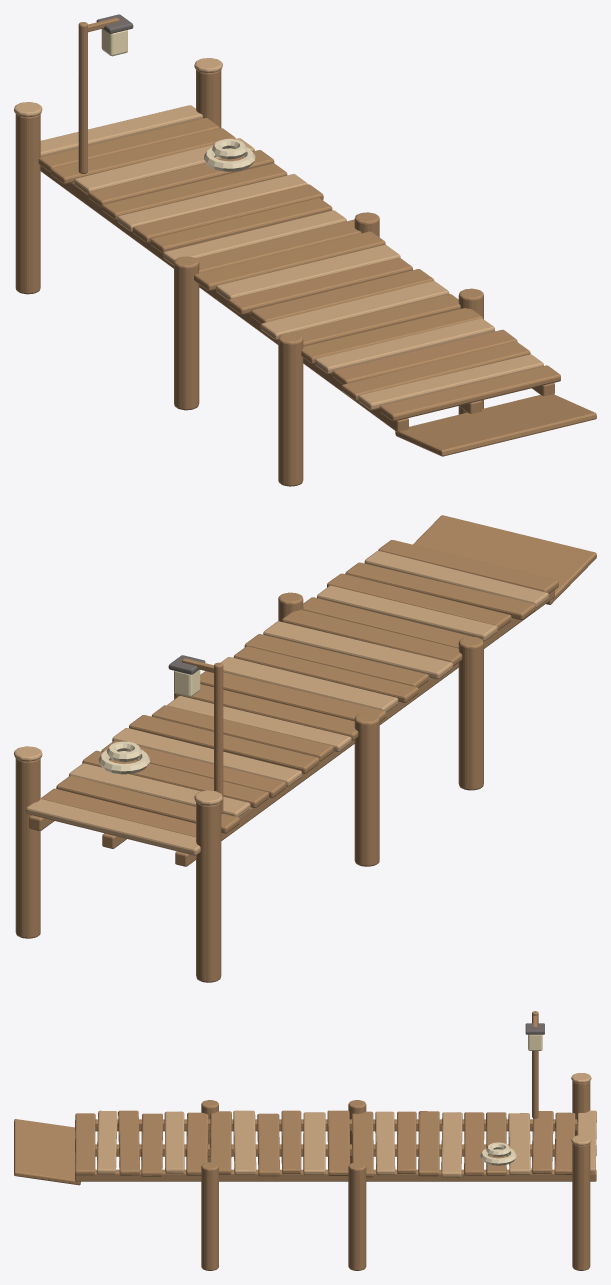
File: dock.glb
The picture shows the model from 3 angles, top to bottom: view 1: azimuth 30°, elevation 25°; view 2: azimuth 150°, elevation 25°; view 3: azimuth 270°, elevation 25°; orthographic projection. The views are drawn at different scales.
Parts seen in each view (by area): view 1: Dock ramp, Dock post.004, Dock post, Dock post.002, Dock plank 00, Dock plank 11, Dock plank 07, Dock plank 15, Dock plank 10, Dock plank 09, Dock plank 14, Dock plank 02 (+20 smaller); view 2: Dock ramp, Dock post.004, Dock post.005, Dock post, Dock post.002, Dock plank 07, Dock plank 22, Dock plank 15, Dock plank 02, Dock plank 10, Dock plank 04, Dock plank 06 (+20 smaller); view 3: Dock stringer.002, Dock ramp, Dock post.005, Dock post.003, Dock post.001, Dock plank 11, Dock plank 07, Dock plank 10, Dock plank 15, Dock plank 08, Dock plank 02, Dock plank 03 (+21 smaller).
Boxes of the visible parts, bbox=[...] form: Dock ramp: bbox=[395, 394, 596, 456]; Dock post.004: bbox=[15, 114, 40, 294]; Dock post: bbox=[278, 332, 303, 486]; Dock post.002: bbox=[174, 256, 199, 410]; Dock plank 00: bbox=[379, 365, 560, 421]; Dock plank 11: bbox=[194, 231, 385, 290]; Dock plank 07: bbox=[260, 281, 449, 340]; Dock plank 15: bbox=[132, 184, 323, 242]; Dock plank 10: bbox=[216, 244, 400, 300]; Dock plank 09: bbox=[228, 258, 412, 314]; Dock plank 14: bbox=[150, 198, 332, 253]; Dock plank 02: bbox=[341, 341, 530, 400]; Dock ramp: bbox=[413, 515, 596, 604]; Dock post.004: bbox=[196, 802, 221, 982]; Dock post.005: bbox=[15, 758, 40, 938]; Dock post: bbox=[458, 636, 483, 790]; Dock post.002: bbox=[354, 713, 379, 866]; Dock plank 07: bbox=[263, 621, 452, 679]; Dock plank 22: bbox=[26, 799, 200, 855]; Dock plank 15: bbox=[129, 715, 319, 773]; Dock plank 02: bbox=[345, 562, 535, 619]; Dock plank 10: bbox=[220, 657, 398, 712]; Dock plank 04: bbox=[317, 585, 497, 641]; Dock plank 06: bbox=[282, 609, 462, 666]; Dock stringer.002: bbox=[75, 1169, 596, 1181]; Dock ramp: bbox=[14, 1119, 80, 1185]; Dock post.005: bbox=[572, 1143, 590, 1270]; Dock post.003: bbox=[348, 1162, 366, 1270]; Dock post.001: bbox=[201, 1162, 218, 1270]; Dock plank 11: bbox=[327, 1110, 350, 1175]; Dock plank 07: bbox=[233, 1110, 256, 1174]; Dock plank 10: bbox=[303, 1112, 325, 1174]; Dock plank 15: bbox=[418, 1111, 439, 1176]; Dock plank 08: bbox=[257, 1113, 279, 1176]; Dock plank 02: bbox=[118, 1110, 140, 1175]; Dock plank 03: bbox=[141, 1113, 162, 1176].
Size of the model in its own units: 2.72 by 3.62 by 9.5.
